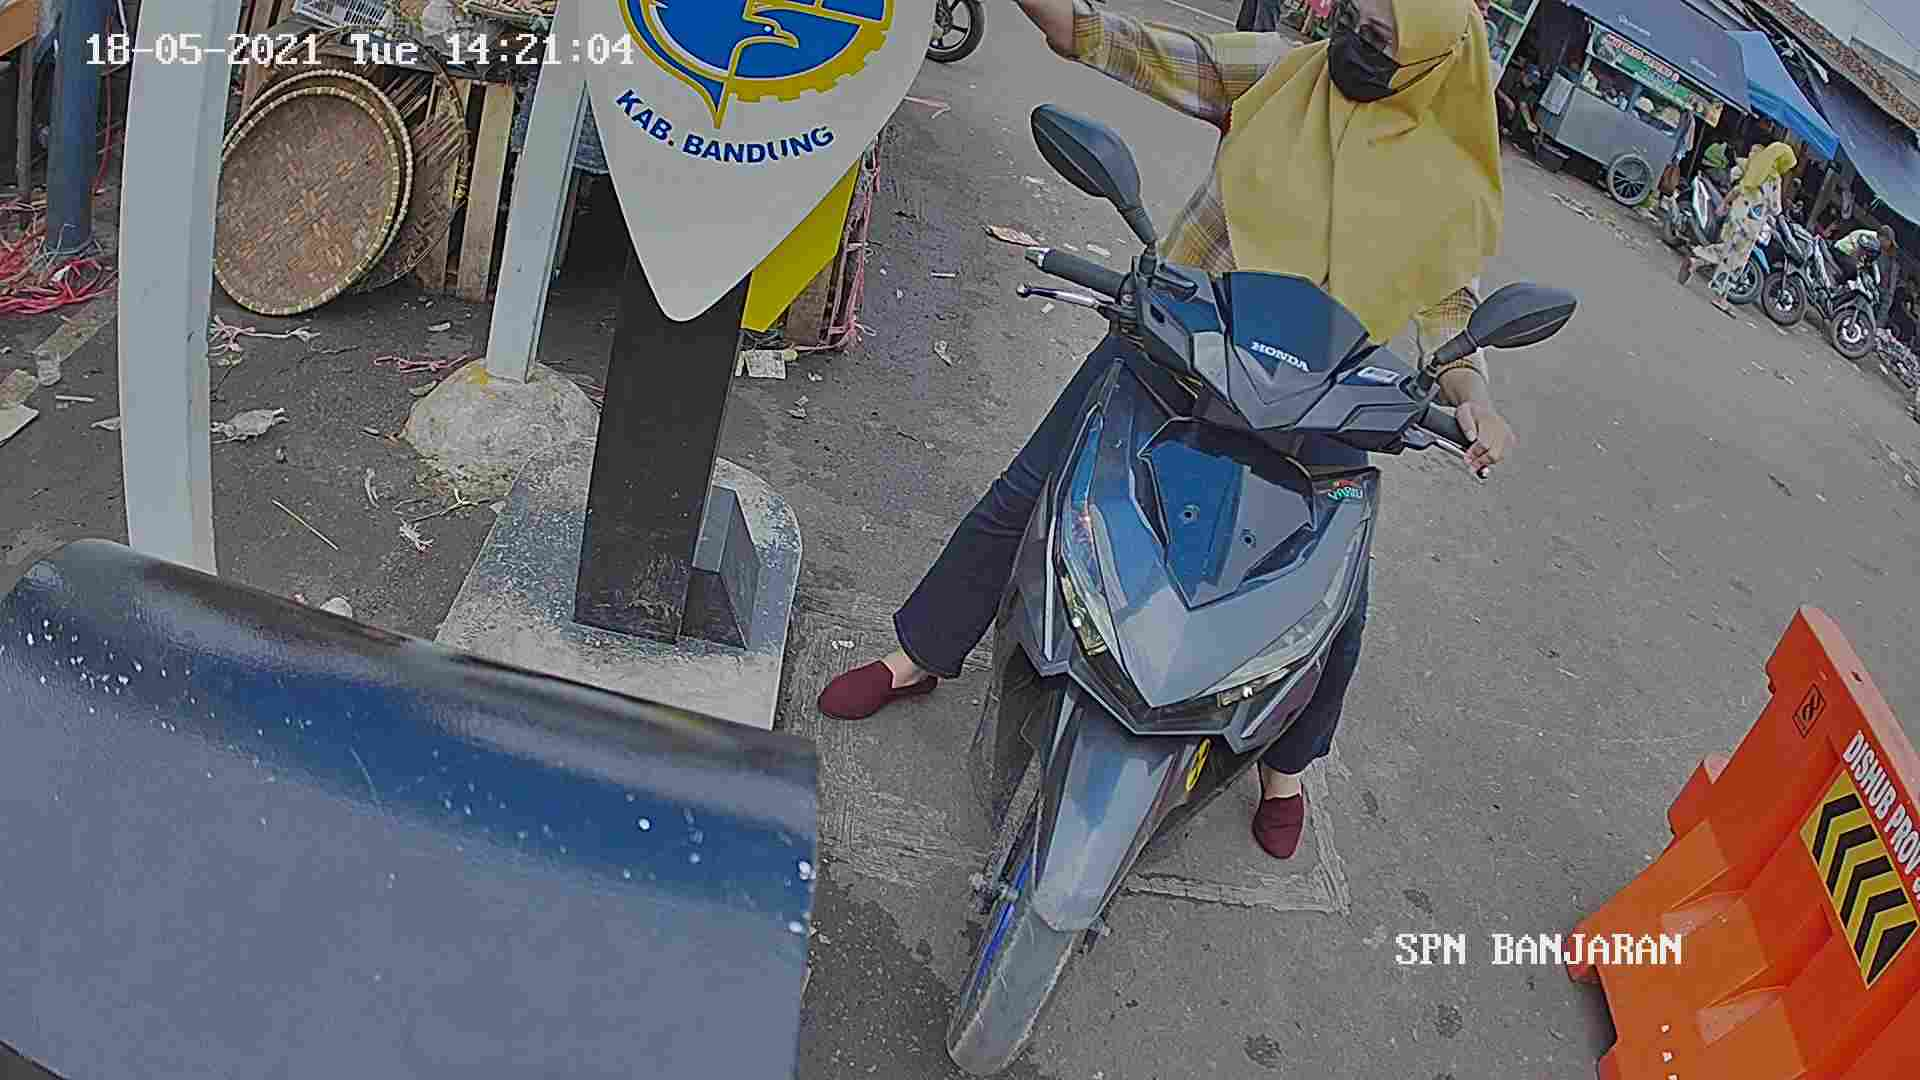motor: (926, 158, 1501, 1077)
